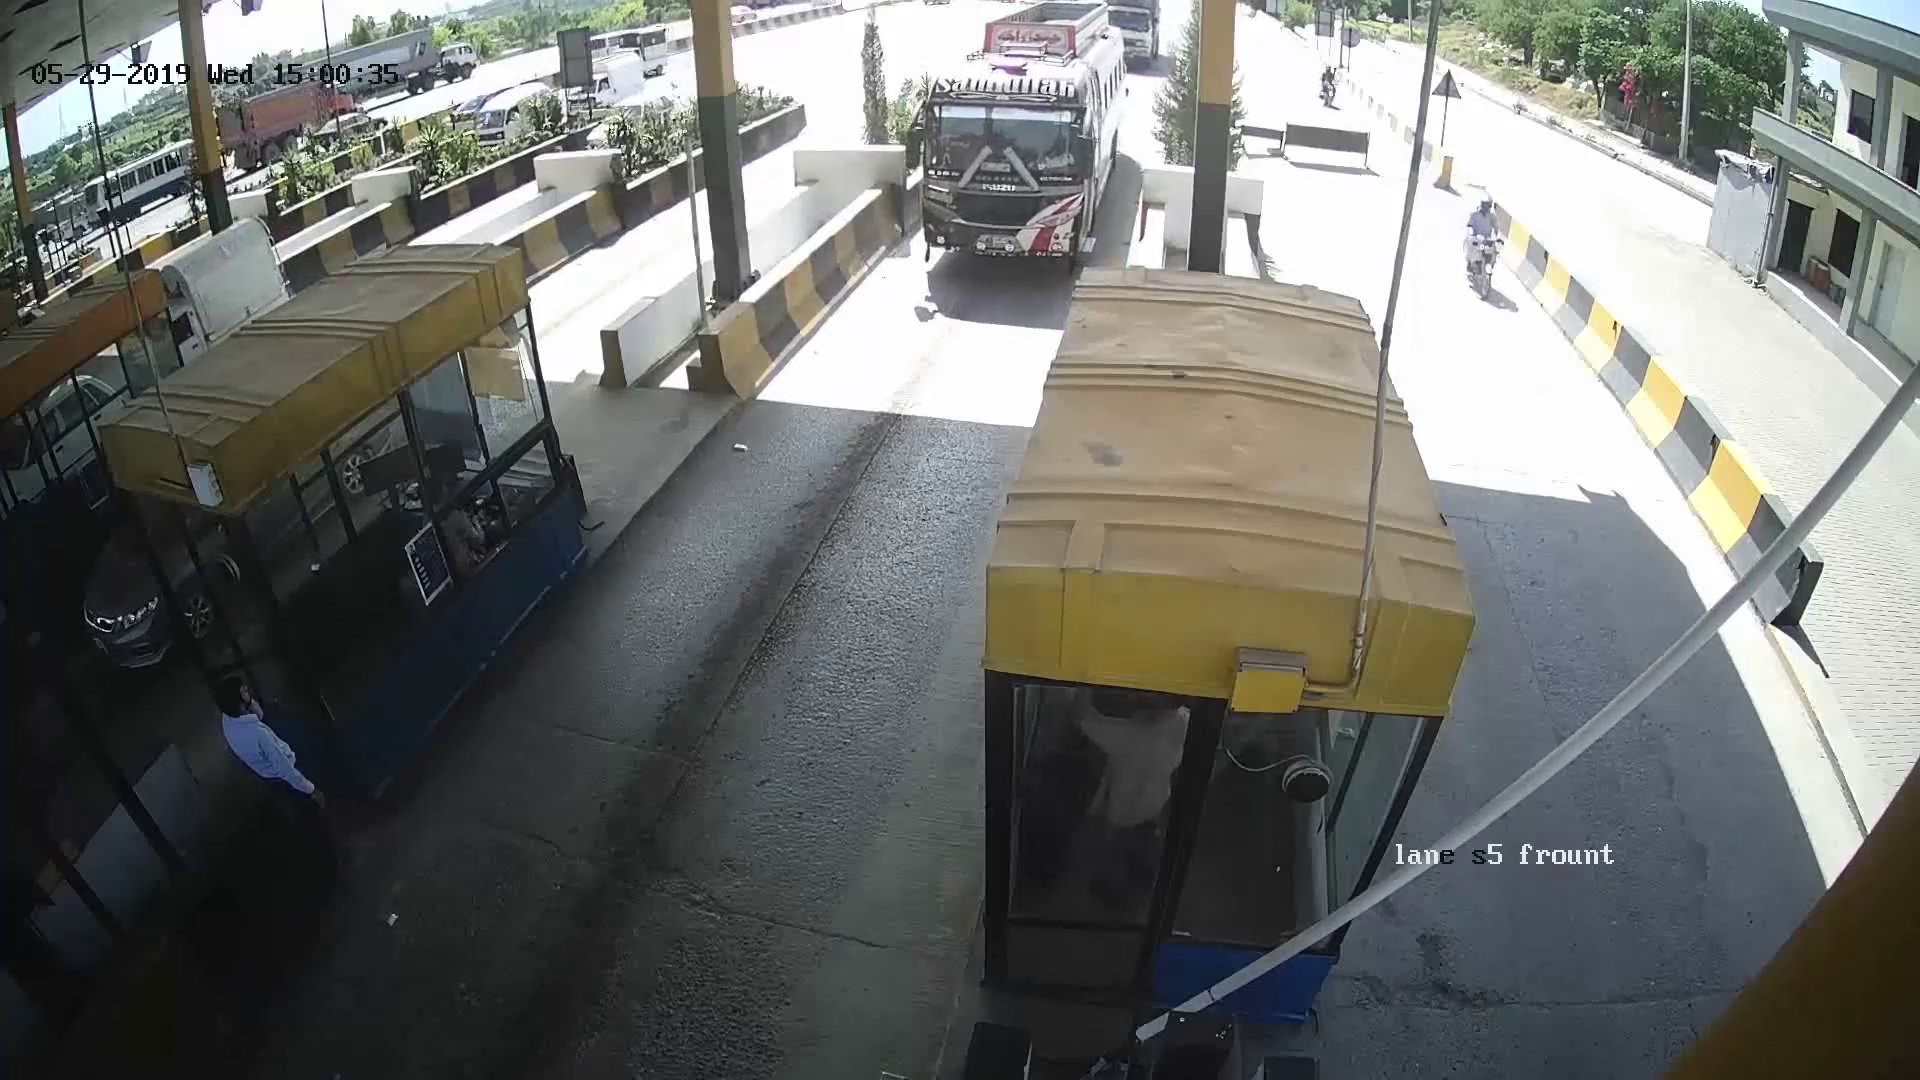bus: (895, 29, 1138, 274)
